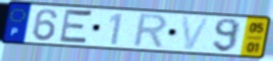1: (108, 12, 125, 46)
6: (30, 7, 60, 42)
9: (212, 17, 243, 54)
E: (57, 7, 95, 47)
R: (131, 12, 170, 50)
V: (180, 15, 212, 52)
